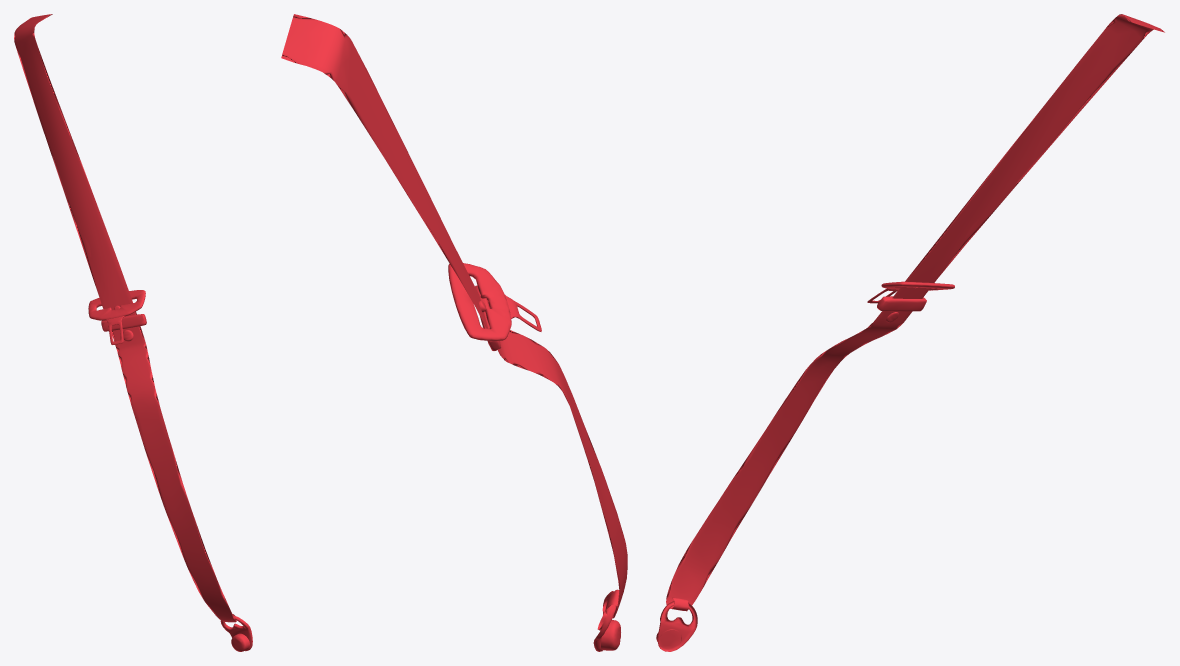
File: b_SeatBelt_Geo_lodA_SeatBelt_Geo_lodA_BMW_i8Elit_4c0f2436.glb
The picture shows the model from 3 angles, left to right: view 1: azimuth 30°, elevation 25°; view 2: azimuth 150°, elevation 25°; view 3: azimuth 270°, elevation 25°; orthographic projection. The views are drawn at different scales.
Visible parts, largest first — view 1: b:SeatBelt_Geo_lodA_SeatBelt_Geo_lodA_BMW_i8Elite_2017SeatBe; view 2: b:SeatBelt_Geo_lodA_SeatBelt_Geo_lodA_BMW_i8Elite_2017SeatBe; view 3: b:SeatBelt_Geo_lodA_SeatBelt_Geo_lodA_BMW_i8Elite_2017SeatBe.
Part boxes in pixels (x1=…): b:SeatBelt_Geo_lodA_SeatBelt_Geo_lodA_BMW_i8Elite_2017SeatBe: x1=14, y1=14, x2=252, y2=651; b:SeatBelt_Geo_lodA_SeatBelt_Geo_lodA_BMW_i8Elite_2017SeatBe: x1=281, y1=14, x2=627, y2=651; b:SeatBelt_Geo_lodA_SeatBelt_Geo_lodA_BMW_i8Elite_2017SeatBe: x1=656, y1=14, x2=1164, y2=651.
Bounding box in the file's own units: 0.0696 × 0.627 × 0.4621.
